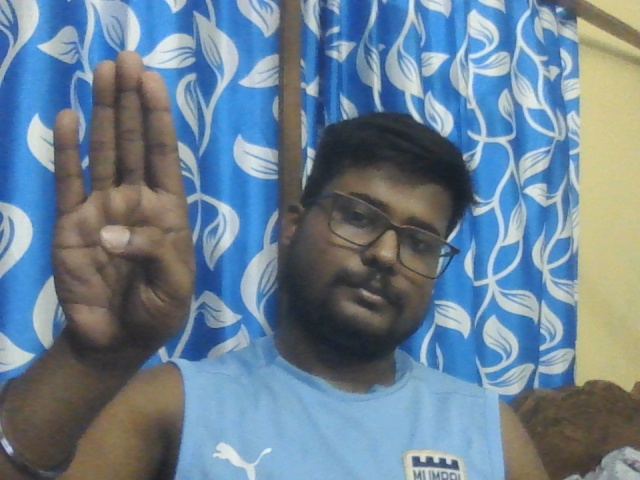B: (49, 49, 196, 347)
